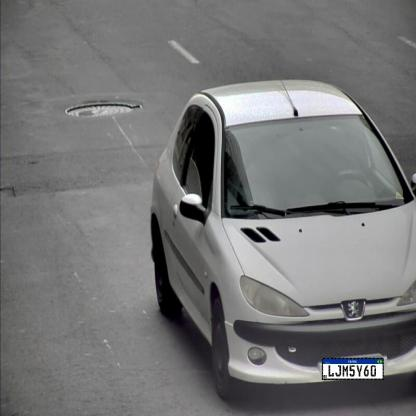PlacaM: (322, 358, 384, 380)
